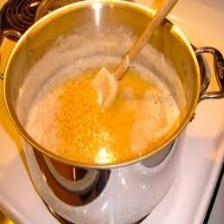dal: (29, 55, 178, 165)
